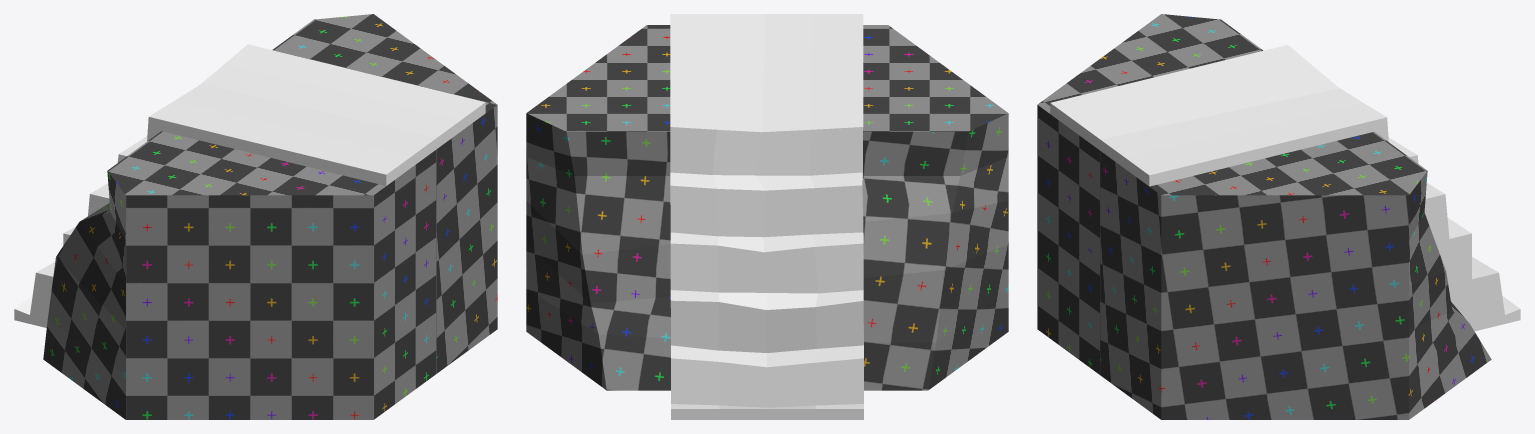
File: module-corner_land_cliff_big_stairs.glb
3 views of the same model, side by side, from view 1: azimuth 30°, elevation 25°; view 2: azimuth 150°, elevation 25°; view 3: azimuth 270°, elevation 25° (orthographic). The views are drawn at different scales.
Visible parts, largest first — view 1: module-corner_land_cliff_big_stairs; view 2: module-corner_land_cliff_big_stairs; view 3: module-corner_land_cliff_big_stairs.
Boxes of the visible parts, x1=… form: module-corner_land_cliff_big_stairs: x1=14, y1=14, x2=497, y2=419; module-corner_land_cliff_big_stairs: x1=526, y1=14, x2=1008, y2=419; module-corner_land_cliff_big_stairs: x1=1037, y1=14, x2=1520, y2=419.
Bounding box in the file's own units: 0.8705 × 0.525 × 0.975.
2 materials, 1 textured.
